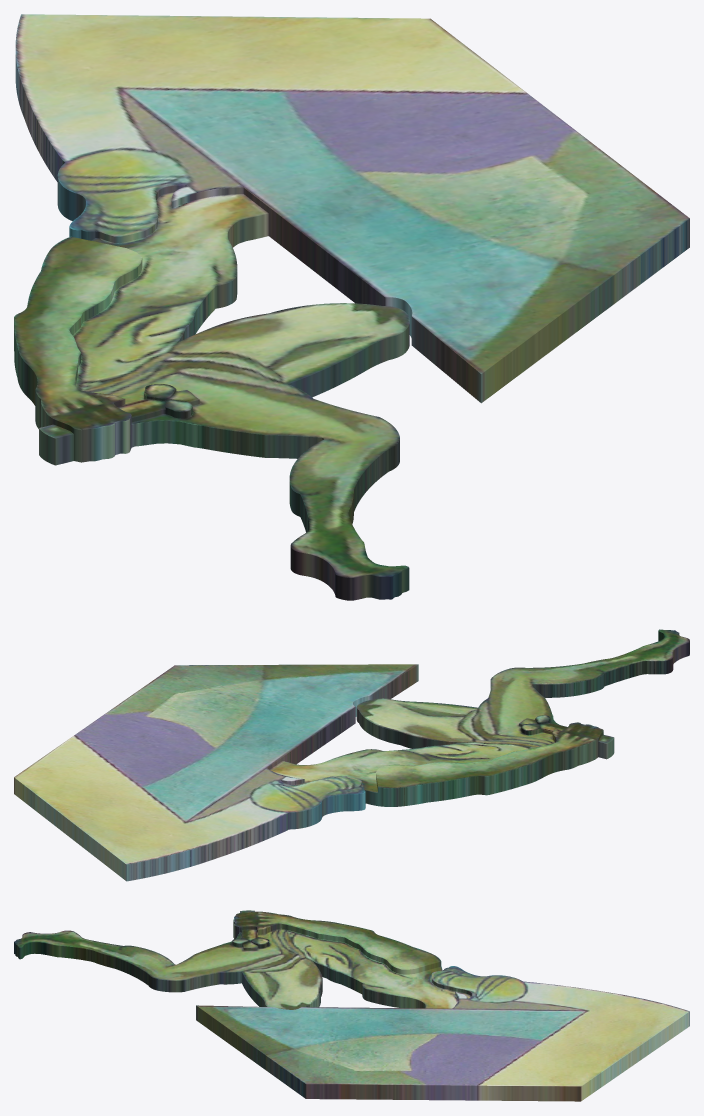
The model's file is sin titulo odontologia 3.dae.
The picture shows the model from 3 angles, top to bottom: view 1: azimuth 30°, elevation 25°; view 2: azimuth 150°, elevation 25°; view 3: azimuth 270°, elevation 25°; orthographic projection. The views are drawn at different scales.
Visible parts, largest first — view 1: SketchUp; view 2: SketchUp; view 3: SketchUp.
Part boxes in pixels (x1,y1,x2,y2): SketchUp: (14, 14, 689, 600); SketchUp: (14, 629, 689, 881); SketchUp: (14, 910, 689, 1101).
Size of the model in its own units: 43.18 by 69.56 by 1.88.
Materials: 2 (1 with a texture image).
